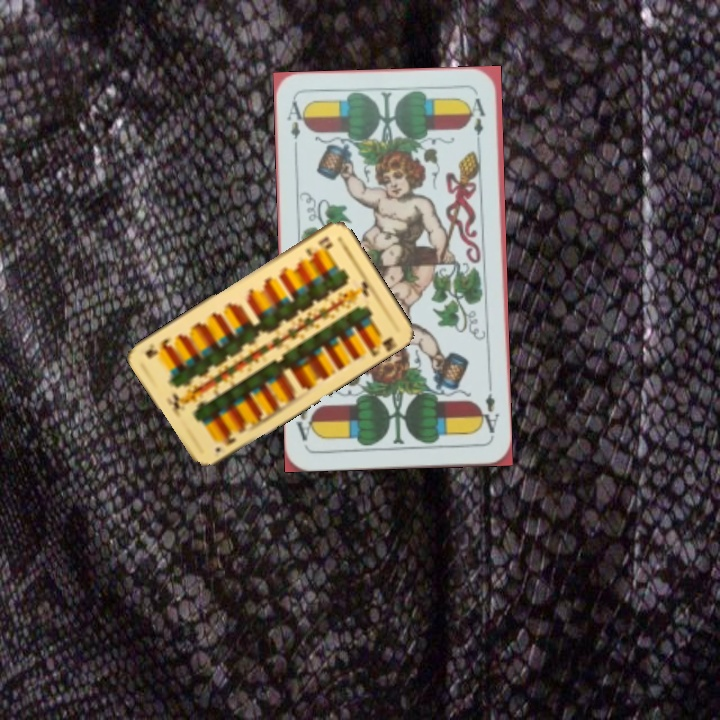E10: (302, 233, 334, 259), (211, 430, 239, 455)
EA: (476, 381, 502, 440), (283, 96, 308, 155)
